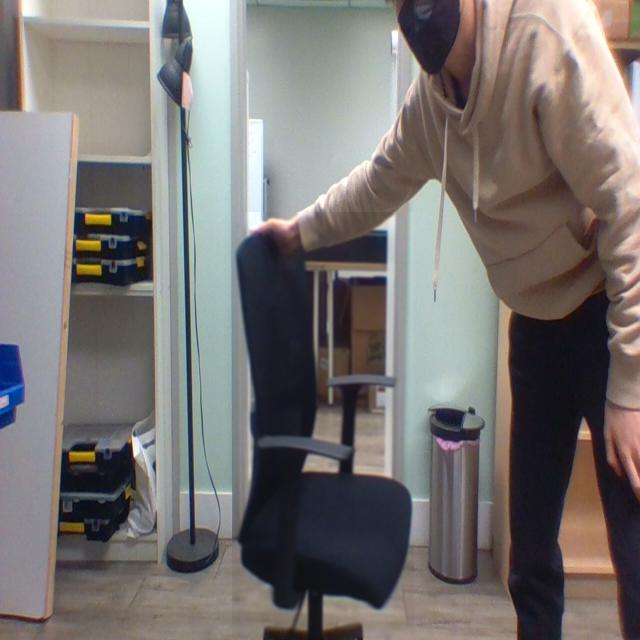black-chair: (232, 212, 415, 639)
